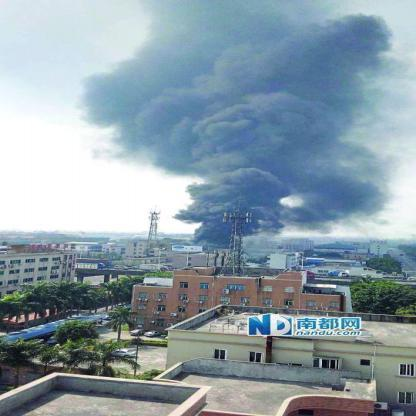smoke: (248, 19, 414, 98), (257, 98, 382, 175), (85, 68, 242, 123), (244, 168, 374, 230), (123, 7, 251, 67), (132, 120, 260, 178), (192, 184, 236, 243)
